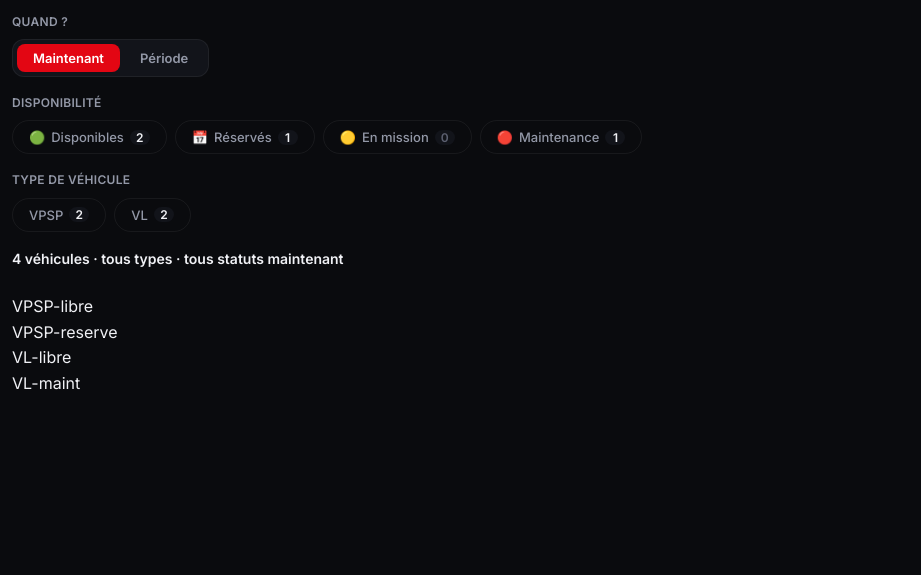
Test: DtFilterPanel › bascule Maintenant → Période : champs préremplis, puce « Potentiellement disponibles » ajoutée
expect the field labelled "Début" is not shown: met
expect the button "Potentiellement disponibles" is not shown: met
Click the radio button labelled "Période" at (164, 58), box left=124, top=44, right=204, bottom=72
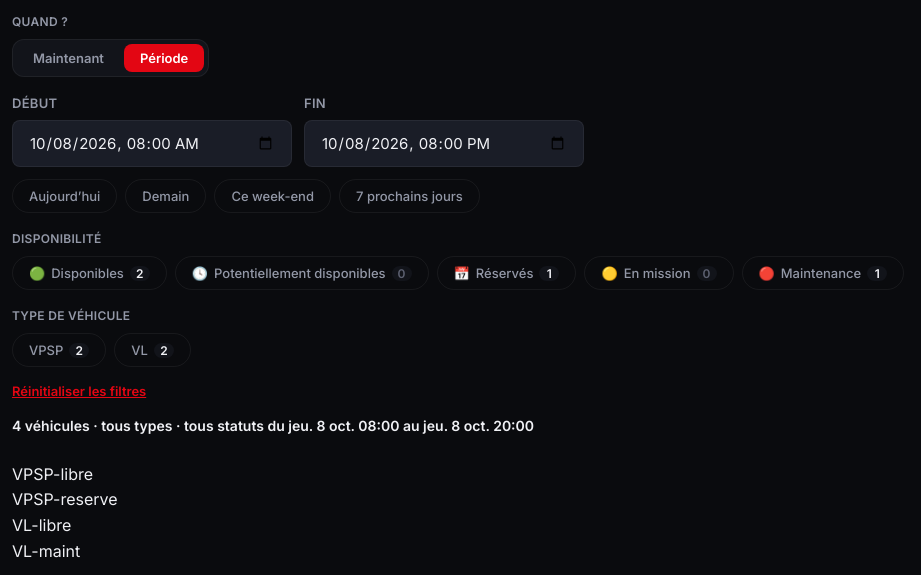
expect the field labelled "Début" holds "2026-10-08T08:00": met, box left=12, top=120, right=292, bottom=167
expect the field labelled "Fin" holds "2026-10-08T20:00": met, box left=304, top=120, right=584, bottom=167
expect the button "🕓 Potentiellement disponibles 0" is shown: met, box left=175, top=256, right=429, bottom=290
